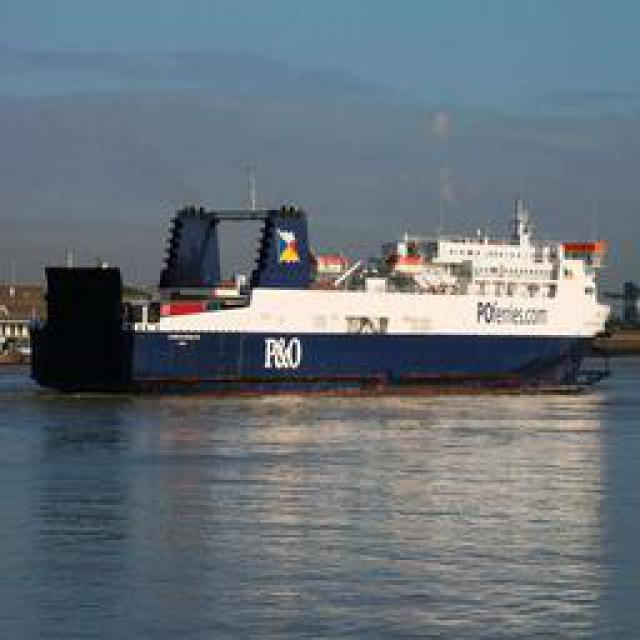Ship: (42, 204, 620, 399)
